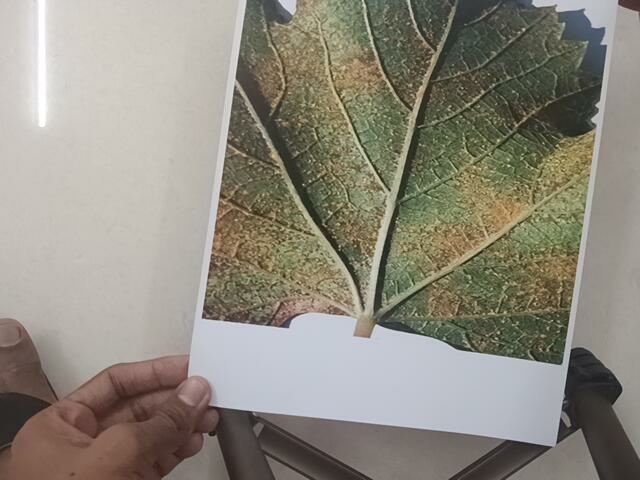Grape_Rust_Fungus: (215, 12, 594, 364)
